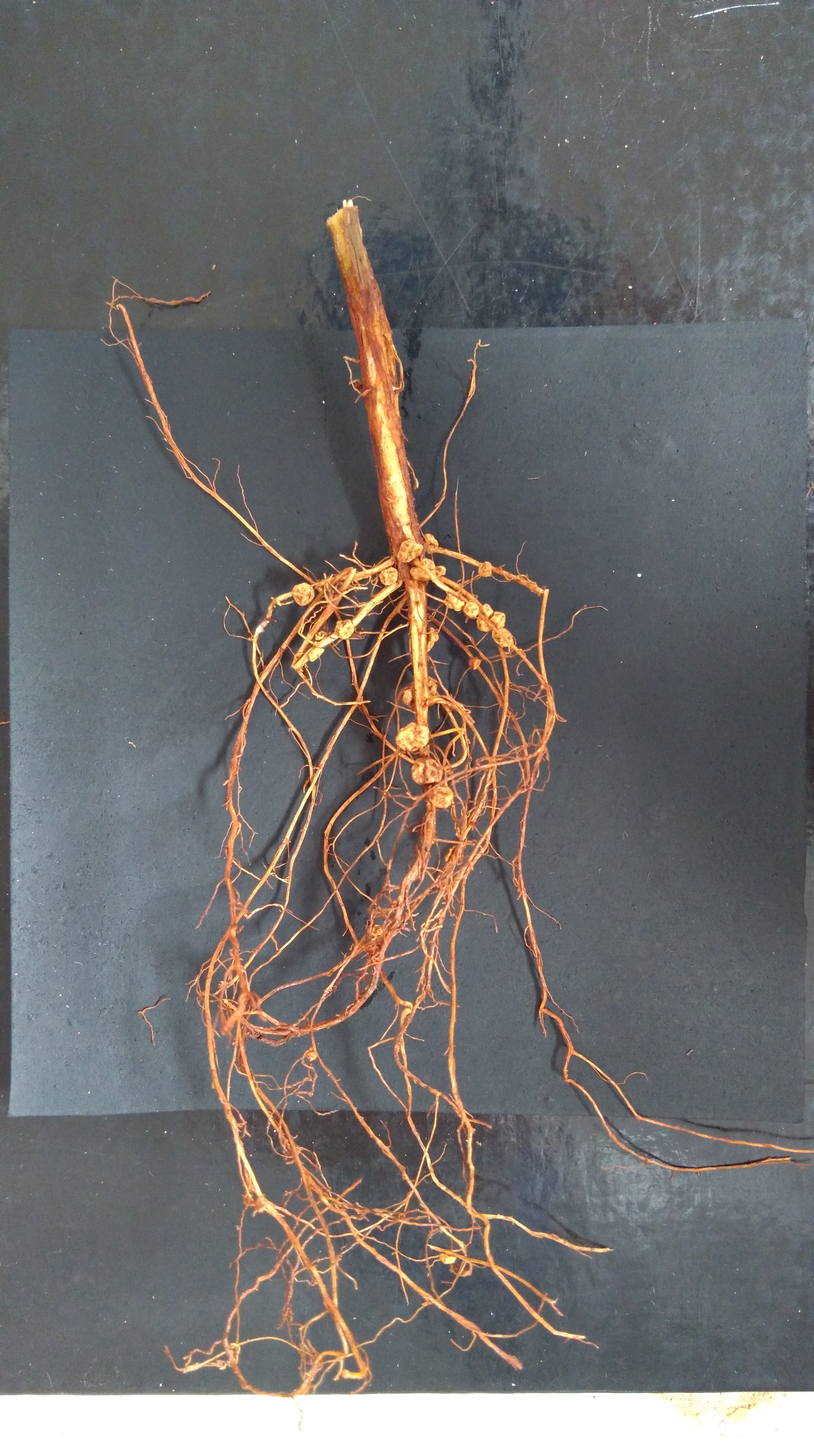nodule: (402, 676, 439, 710), (394, 721, 430, 753), (409, 755, 444, 784), (395, 537, 424, 564), (409, 557, 436, 584), (427, 784, 455, 809), (291, 582, 316, 608), (490, 627, 516, 648), (377, 566, 401, 586), (424, 626, 440, 656), (334, 619, 355, 640), (443, 593, 464, 613), (421, 532, 439, 555), (476, 559, 492, 578), (463, 601, 479, 620), (438, 1250, 457, 1266), (308, 647, 325, 662), (476, 615, 490, 633), (491, 610, 505, 628), (468, 656, 482, 672), (434, 563, 447, 578), (481, 602, 494, 617), (304, 1048, 318, 1061), (371, 923, 383, 937), (314, 630, 329, 641)
